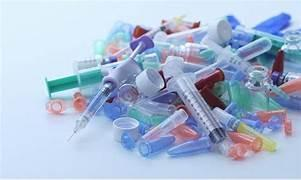Syringe: (69, 36, 153, 139), (163, 56, 226, 143)
